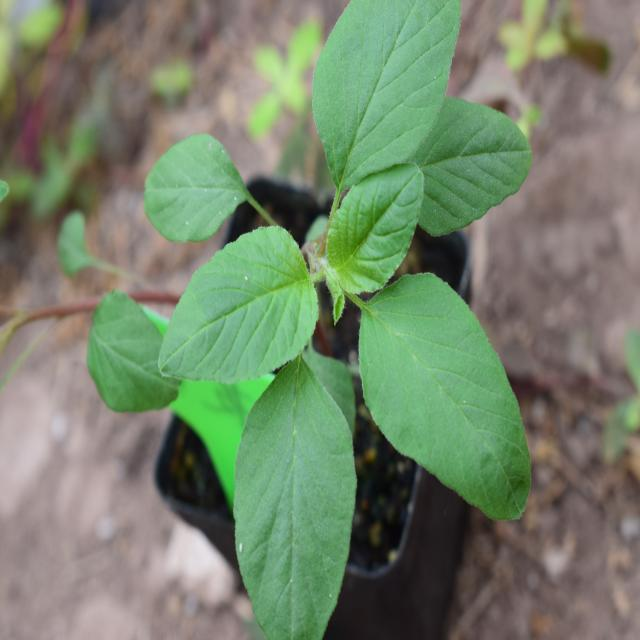pigweed: (142, 4, 518, 587)
